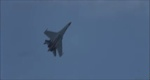maybay_muctieu: (43, 20, 74, 57)
